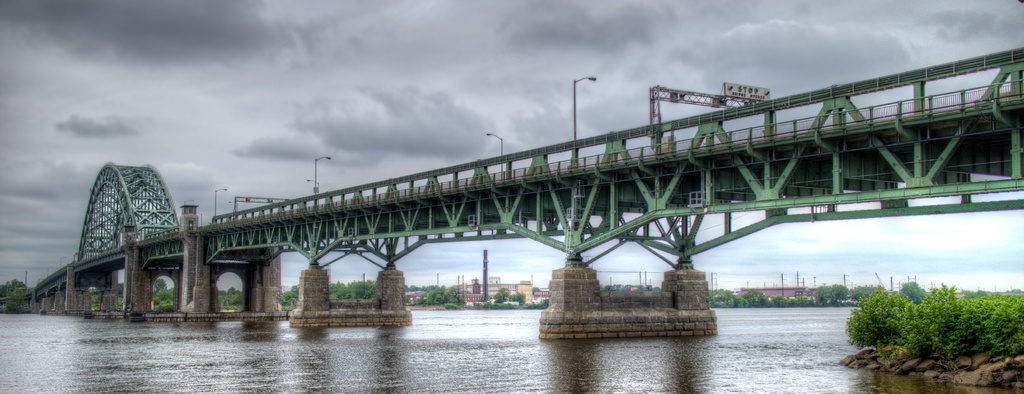Tree: (327, 280, 376, 297), (814, 282, 850, 305), (898, 280, 927, 304), (419, 284, 448, 304), (741, 288, 770, 308), (154, 277, 167, 297)
